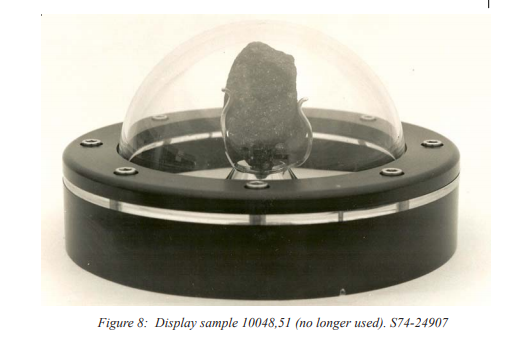Breccia: (227, 45, 303, 161)
